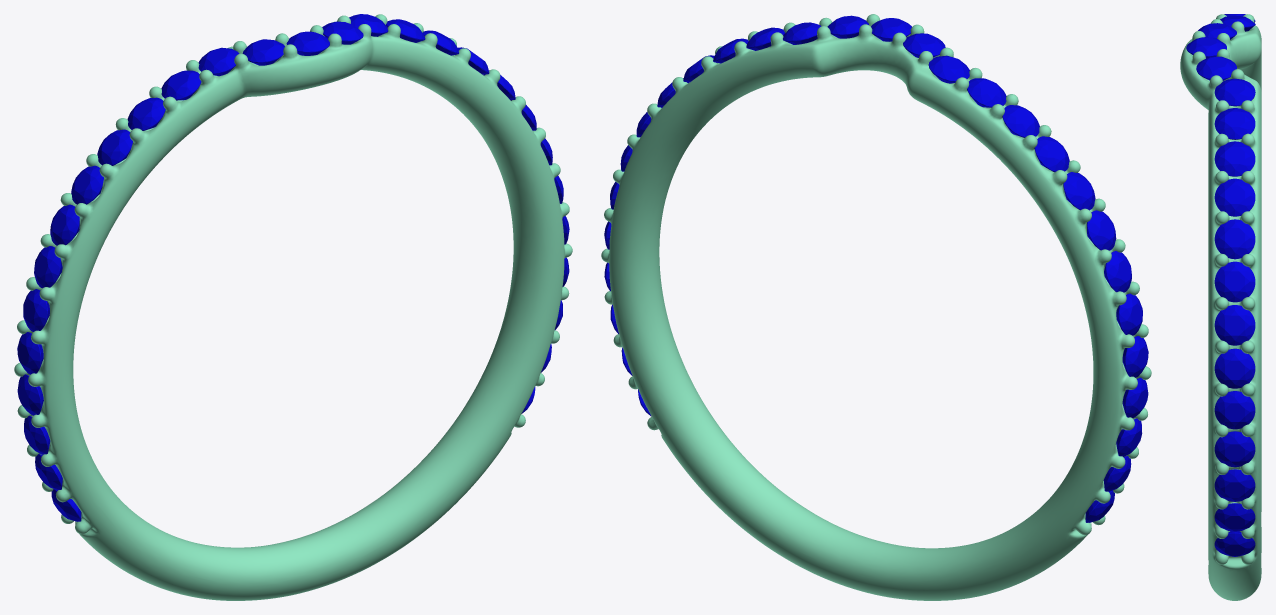
The picture shows the model from 3 angles, left to right: view 1: azimuth 30°, elevation 25°; view 2: azimuth 150°, elevation 25°; view 3: azimuth 270°, elevation 25°; orthographic projection. The views are drawn at different scales.
Parts seen in each view (by area): view 1: Metal03, Diamond_Band.005, Diamond_Band.004, Diamond_Band.006, Diamond_Band.003, Diamond_Band.002, Diamond_Band.007, Diamond_Band.008, Diamond_Band, Diamond_Band.001, Diamond_Band.009, Diamond_Band.028 (+1 smaller); view 2: Metal03, Diamond_Band.005, Diamond_Band.004, Diamond_Band.006, Diamond_Band.003, Diamond_Band.007, Diamond_Band.002, Diamond_Band.001, Diamond_Band.008, Diamond_Band.009, Diamond_Band; view 3: Metal03, Diamond_Band.021, Diamond_Band.020, Diamond_Band.019, Diamond_Band.022, Diamond_Band.018, Diamond_Band.023, Diamond_Band.017, Diamond_Band.024, Diamond_Band.016, Diamond_Band.025, Diamond_Band.015 (+6 smaller).
Part boxes in pixels (left/top/right/bottom): Metal03: left=14, top=14, right=572, bottom=600; Diamond_Band.005: left=71, top=165, right=103, bottom=204; Diamond_Band.004: left=97, top=129, right=132, bottom=165; Diamond_Band.006: left=50, top=204, right=79, bottom=245; Diamond_Band.003: left=127, top=97, right=165, bottom=130; Diamond_Band.002: left=161, top=70, right=201, bottom=100; Diamond_Band.007: left=34, top=246, right=62, bottom=288; Diamond_Band.008: left=23, top=289, right=49, bottom=331; Diamond_Band: left=242, top=39, right=284, bottom=65; Diamond_Band.001: left=198, top=47, right=239, bottom=76; Diamond_Band.009: left=17, top=332, right=43, bottom=374; Diamond_Band.028: left=286, top=31, right=329, bottom=55; Metal03: left=601, top=14, right=1151, bottom=600; Diamond_Band.005: left=1063, top=172, right=1095, bottom=210; Diamond_Band.004: left=1034, top=136, right=1069, bottom=172; Diamond_Band.006: left=1087, top=210, right=1116, bottom=250; Diamond_Band.003: left=1002, top=105, right=1039, bottom=137; Diamond_Band.007: left=1104, top=251, right=1131, bottom=292; Diamond_Band.002: left=967, top=78, right=1006, bottom=107; Diamond_Band.001: left=928, top=55, right=969, bottom=83; Diamond_Band.008: left=1116, top=293, right=1142, bottom=335; Diamond_Band.009: left=1122, top=336, right=1148, bottom=377; Diamond_Band: left=903, top=33, right=945, bottom=57; Metal03: left=1180, top=14, right=1261, bottom=600; Diamond_Band.021: left=1214, top=261, right=1255, bottom=302; Diamond_Band.020: left=1214, top=305, right=1255, bottom=345; Diamond_Band.019: left=1214, top=348, right=1255, bottom=388; Diamond_Band.022: left=1214, top=219, right=1255, bottom=259; Diamond_Band.018: left=1214, top=391, right=1255, bottom=429; Diamond_Band.023: left=1214, top=178, right=1255, bottom=216; Diamond_Band.017: left=1214, top=431, right=1255, bottom=467; Diamond_Band.024: left=1214, top=141, right=1255, bottom=176; Diamond_Band.016: left=1214, top=469, right=1255, bottom=501; Diamond_Band.025: left=1214, top=108, right=1255, bottom=139; Diamond_Band.015: left=1214, top=503, right=1255, bottom=531.
Bounding box in the file's own units: 20.95 × 20.89 × 2.9.
